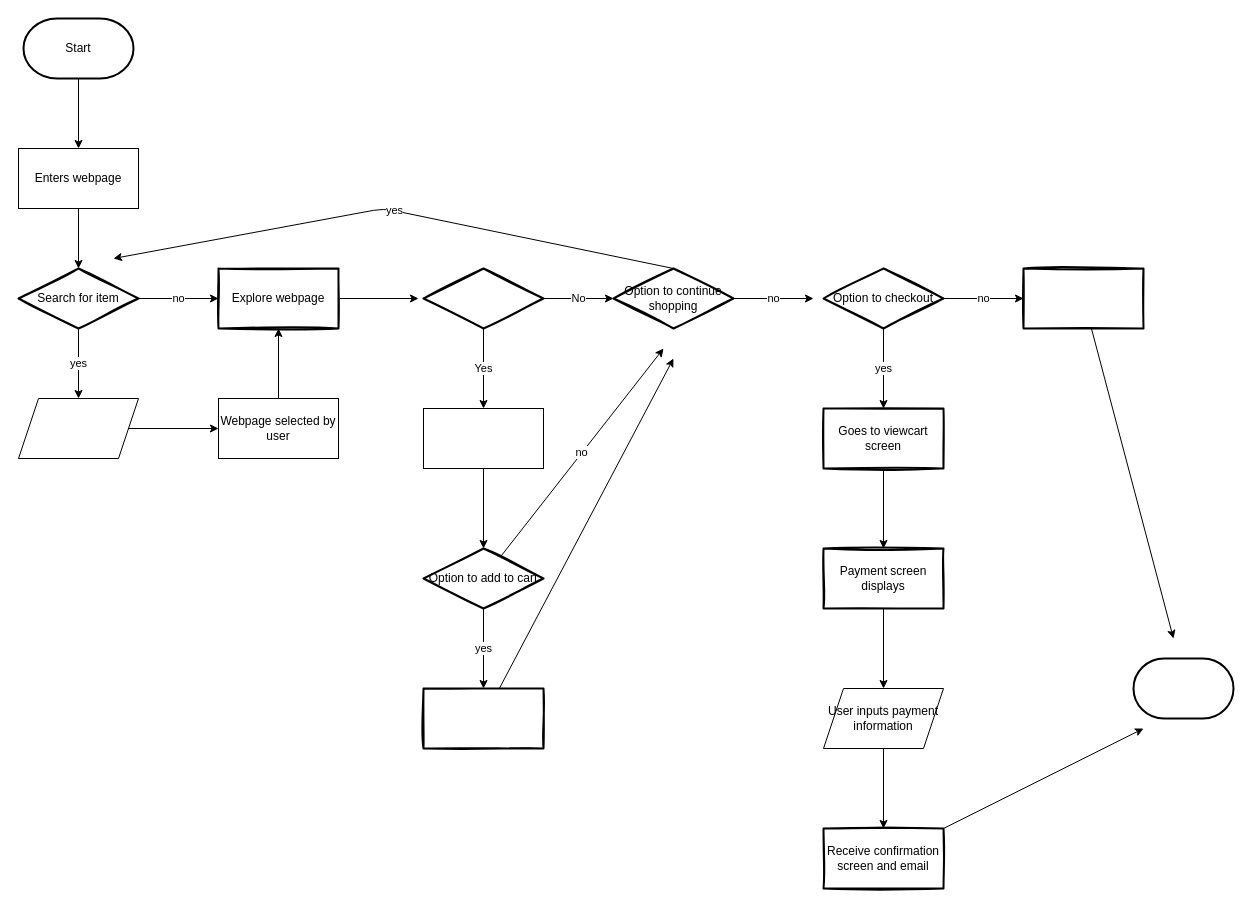
Some shapes in this 1251 by 906 pixel diagram are drawn without their labels. Here are the shapes that lost their labels. From the top down, the centre of each, then its label:
point 483,298: Decide to view specific item's page
point 1083,298: leave website
point 78,428: Input is provided by the user
point 483,438: Webpage opens
point 1183,688: End
point 483,718: Added to cart confirmation
